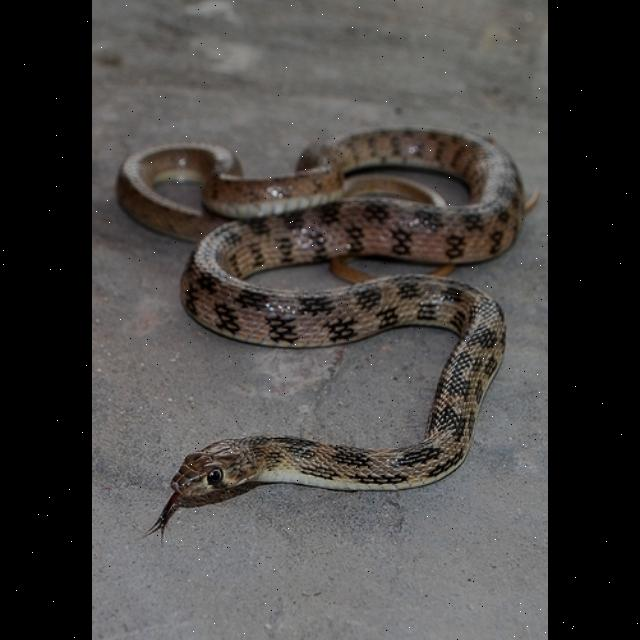snake: (117, 120, 548, 542)
